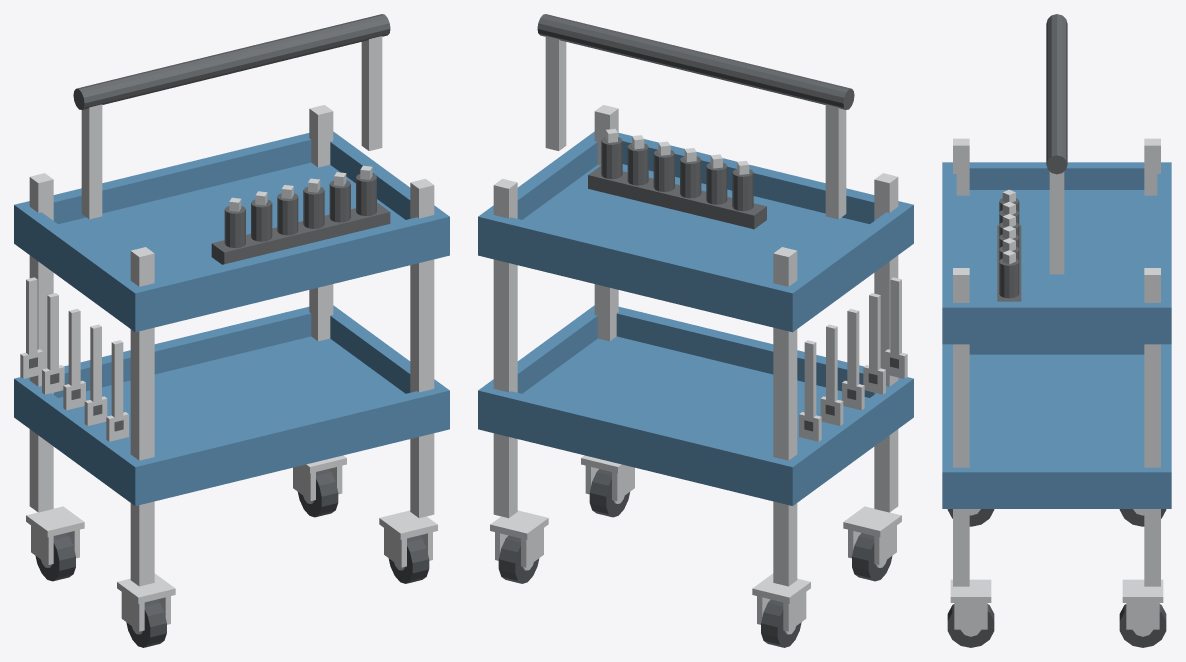
The model's file is tool-trolley.glb.
The picture shows the model from 3 angles, left to right: view 1: azimuth 30°, elevation 25°; view 2: azimuth 150°, elevation 25°; view 3: azimuth 270°, elevation 25°; orthographic projection. The views are drawn at different scales.
Parts seen in each view (by area): view 1: car-repair-garage-and-mot-workshop-tool-trolley; view 2: car-repair-garage-and-mot-workshop-tool-trolley; view 3: car-repair-garage-and-mot-workshop-tool-trolley.
Part boxes in pixels (x1=…): car-repair-garage-and-mot-workshop-tool-trolley: x1=14, y1=14, x2=449, y2=647; car-repair-garage-and-mot-workshop-tool-trolley: x1=478, y1=14, x2=913, y2=647; car-repair-garage-and-mot-workshop-tool-trolley: x1=942, y1=14, x2=1171, y2=647.
Size of the model in its own units: 0.7425 by 1.15 by 0.48.
